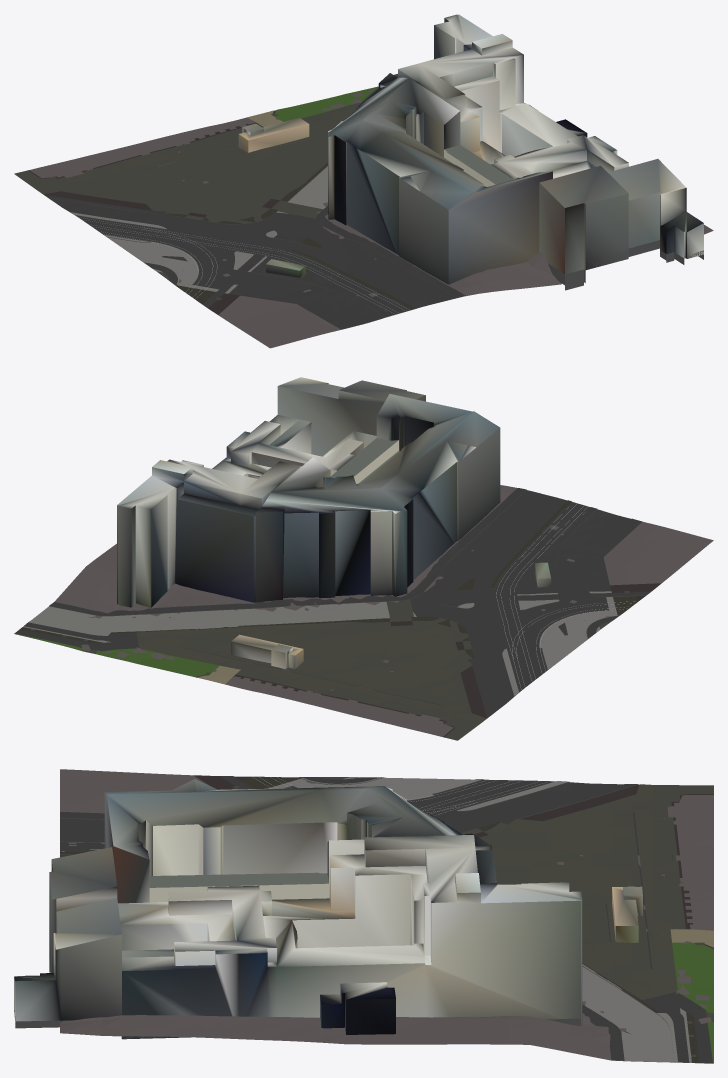
The picture shows the model from 3 angles, top to bottom: view 1: azimuth 30°, elevation 25°; view 2: azimuth 150°, elevation 25°; view 3: azimuth 270°, elevation 25°; orthographic projection. The views are drawn at different scales.
Visible parts, largest first — view 1: c_m04_p02; view 2: c_m04_p02; view 3: c_m04_p02.
Boxes of the visible parts, x1,y1,x2,y2 form: c_m04_p02: [14, 14, 713, 348]; c_m04_p02: [14, 377, 713, 740]; c_m04_p02: [14, 769, 713, 1063].
Bounding box in the file's own units: 128 × 32.97 × 137.
